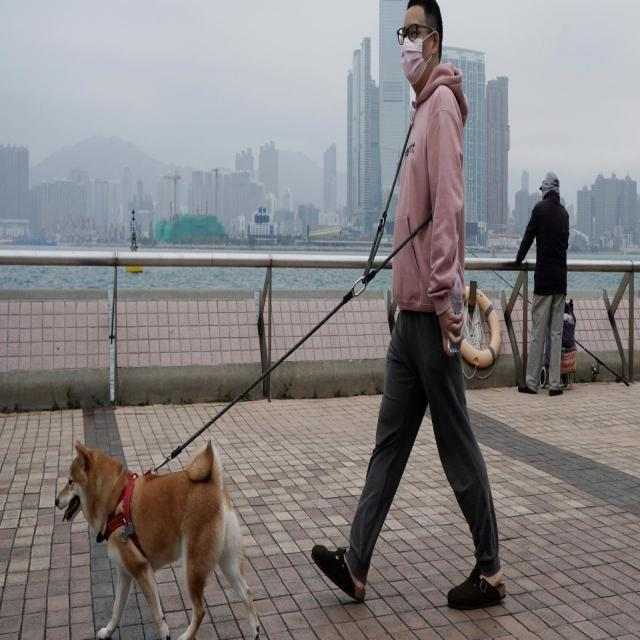Dogs: (52, 438, 265, 640)
